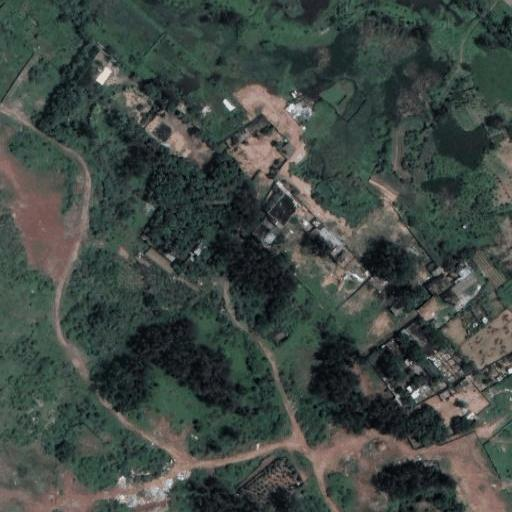building: (76, 48, 113, 91), (225, 115, 269, 149), (139, 230, 179, 262), (309, 223, 342, 257), (282, 92, 315, 123), (266, 197, 296, 228), (401, 372, 432, 402), (439, 377, 472, 403), (253, 216, 281, 245), (363, 267, 392, 295), (183, 238, 208, 268), (406, 322, 430, 349), (426, 274, 451, 297), (452, 273, 477, 296), (279, 140, 299, 161), (389, 297, 409, 317), (95, 66, 113, 86), (422, 359, 439, 378), (402, 328, 413, 341), (458, 266, 472, 276), (432, 269, 444, 280), (312, 219, 322, 228), (481, 317, 488, 324), (508, 366, 512, 374)
